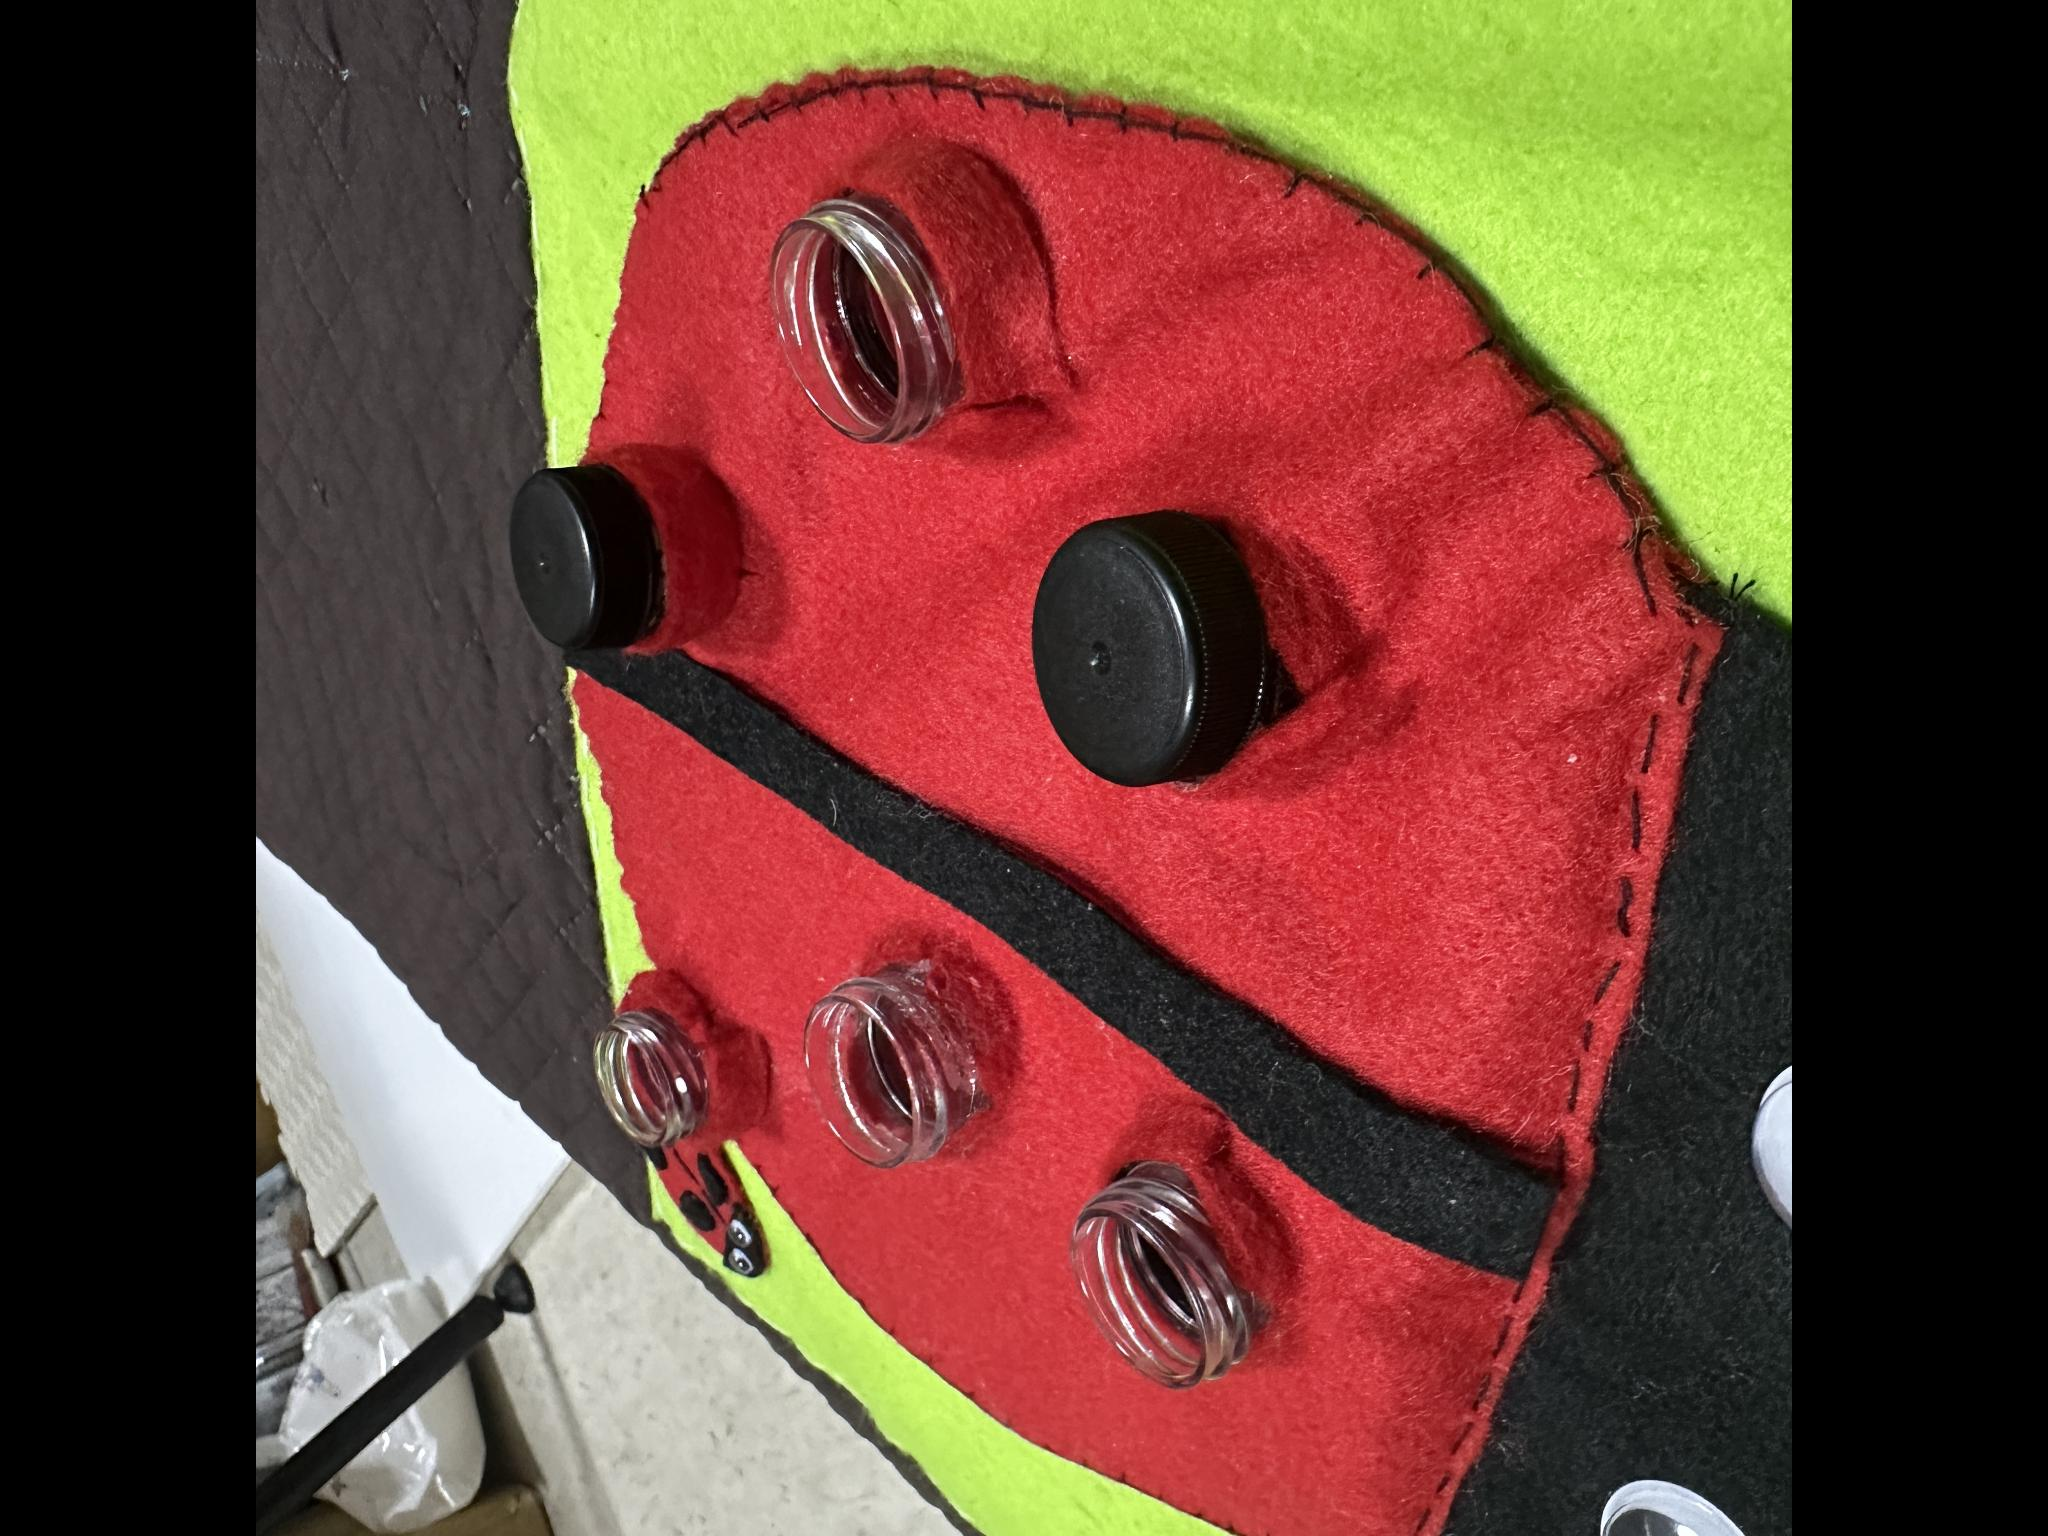cap_ok: (989, 489, 1382, 803), (495, 405, 774, 697)
